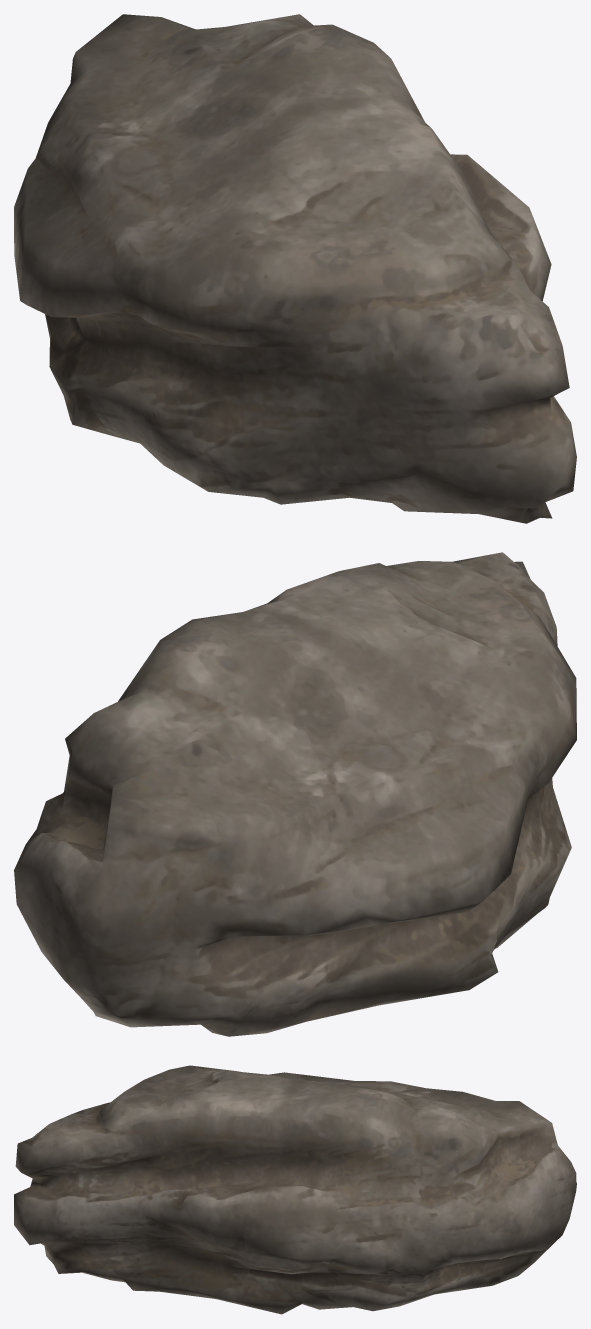
File: Rock_4.fbx
The picture shows the model from 3 angles, top to bottom: view 1: azimuth 30°, elevation 25°; view 2: azimuth 150°, elevation 25°; view 3: azimuth 270°, elevation 25°; orthographic projection. The views are drawn at different scales.
Parts seen in each view (by area): view 1: Rock_4; view 2: Rock_4; view 3: Rock_4.
Part boxes in pixels (<box>): Rock_4: <box>14,14,576,523</box>; Rock_4: <box>14,552,576,1036</box>; Rock_4: <box>14,1065,576,1314</box>.
Size of the model in its own units: 344 by 255 by 634.
1 material, 1 textured.
